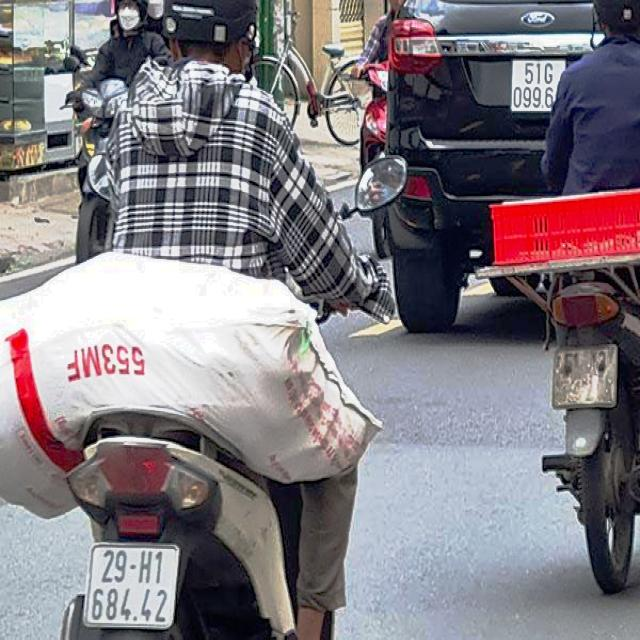license_plate: (86, 545, 181, 630)
